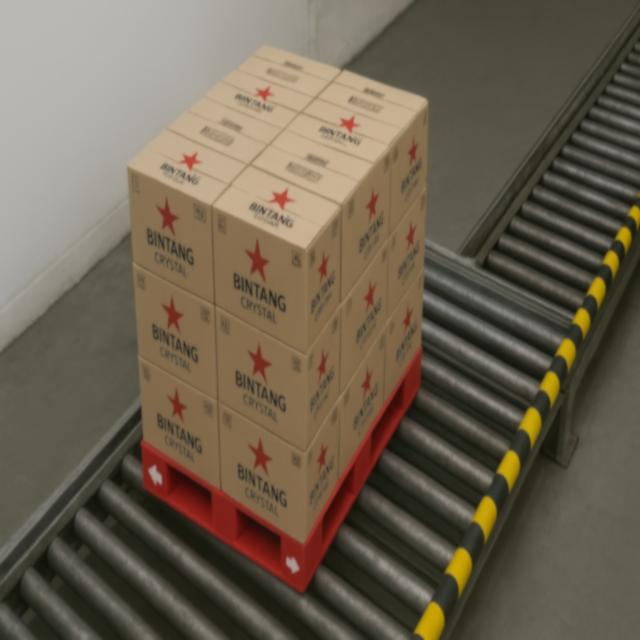pallet: (128, 44, 432, 595)
